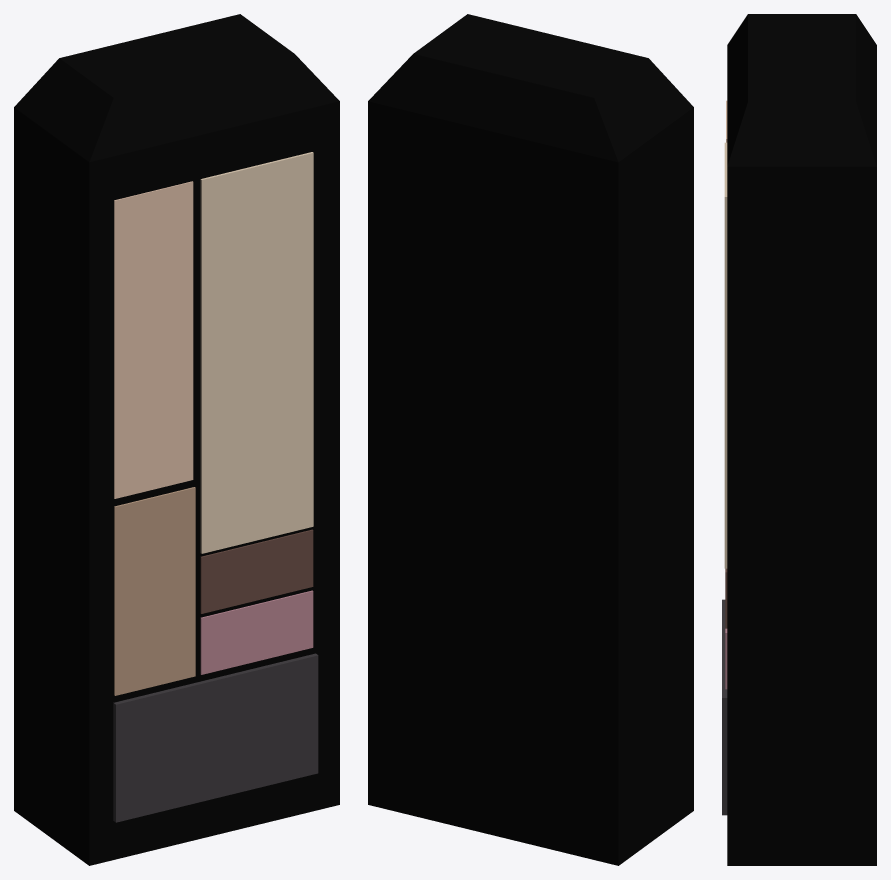
The model's file is eyeshadow.fbx.
The picture shows the model from 3 angles, left to right: view 1: azimuth 30°, elevation 25°; view 2: azimuth 150°, elevation 25°; view 3: azimuth 270°, elevation 25°; orthographic projection.
Parts seen in each view (by area): view 1: pCube13; view 2: pCube13; view 3: pCube13.
Part boxes in pixels (<box>): pCube13: <box>14,14,339,865</box>; pCube13: <box>368,14,693,865</box>; pCube13: <box>722,14,876,865</box>.
Bounding box in the file's own units: 0.3727 × 1.07 × 0.2008.
